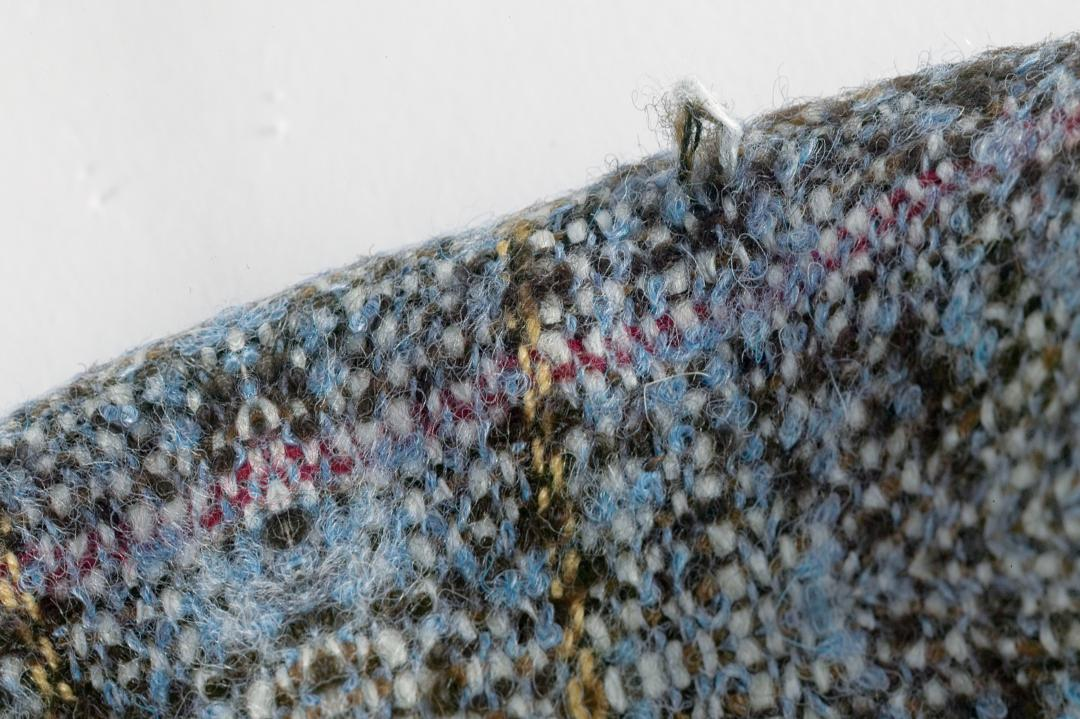snag: (645, 56, 763, 231)
